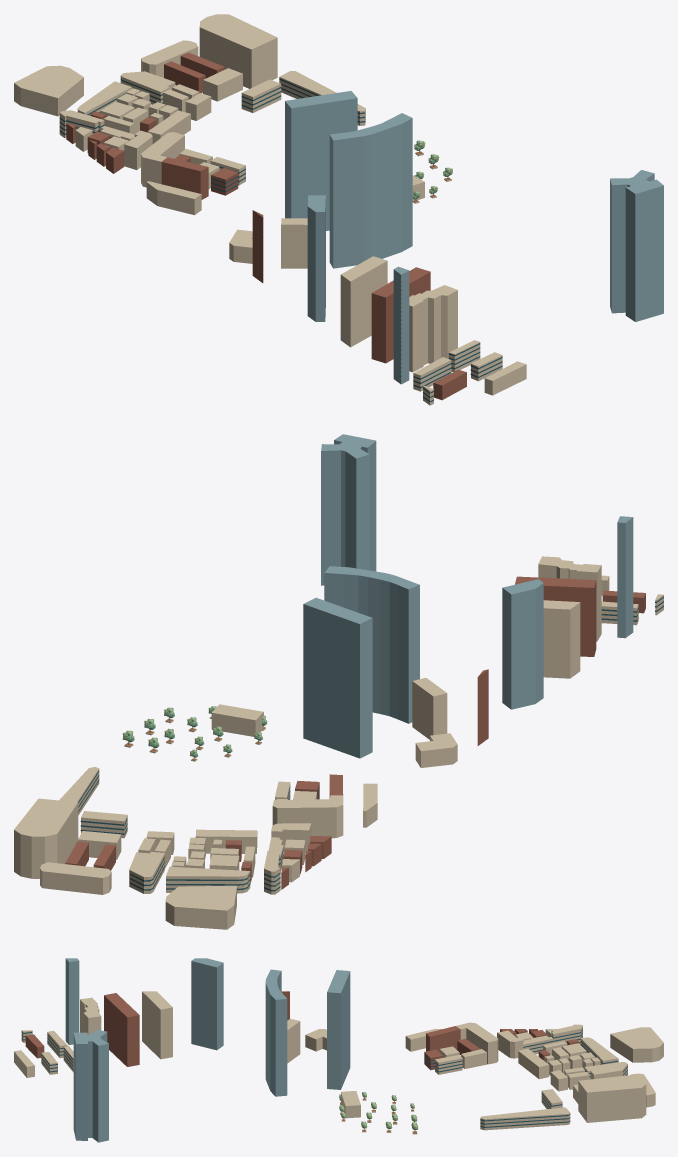
The picture shows the model from 3 angles, top to bottom: view 1: azimuth 30°, elevation 25°; view 2: azimuth 150°, elevation 25°; view 3: azimuth 270°, elevation 25°; orthographic projection. The views are drawn at different scales.
Visible parts, largest first — view 1: osm-way-369237836, osm-way-447124025, osm-way-369237871, osm-way-300481519, osm-way-447124043, osm-way-447124028, osm-way-369238006, osm-way-447124027, osm-way-447124032, osm-way-372180483, osm-way-389702037, osm-way-369237910 (+21 smaller); view 2: osm-way-369237871, osm-way-369237836, osm-way-447124025, osm-way-447124027, osm-way-300481519, osm-way-447124028, osm-way-369238006, osm-way-447124032, osm-way-369238010, osm-way-372180483, osm-way-378107249, osm-way-369237910 (+11 smaller); view 3: osm-way-447124025, osm-way-300481519, osm-way-447124027, osm-way-369237836, osm-way-369237871, osm-way-447124032, osm-way-447124028, osm-way-369238006, osm-way-378107242, osm-way-372180483, osm-way-369238010, osm-way-447124043 (+18 smaller).
Boxes of the visible parts, <box> form: osm-way-369237836: <box>329,113,412,268</box>; osm-way-447124025: <box>610,170,663,321</box>; osm-way-369237871: <box>285,91,357,230</box>; osm-way-300481519: <box>199,14,277,88</box>; osm-way-447124043: <box>409,285,457,372</box>; osm-way-447124028: <box>340,256,387,347</box>; osm-way-369238006: <box>14,65,83,116</box>; osm-way-447124027: <box>307,195,325,321</box>; osm-way-447124032: <box>371,267,430,363</box>; osm-way-372180483: <box>393,266,409,384</box>; osm-way-389702037: <box>161,157,208,199</box>; osm-way-369237910: <box>281,218,307,268</box>; osm-way-369237871: <box>303,597,372,758</box>; osm-way-369237836: <box>324,566,419,723</box>; osm-way-447124025: <box>321,434,376,585</box>; osm-way-447124027: <box>502,579,543,709</box>; osm-way-300481519: <box>14,798,78,878</box>; osm-way-447124028: <box>543,600,580,678</box>; osm-way-369238006: <box>165,885,236,929</box>; osm-way-447124032: <box>515,576,596,656</box>; osm-way-369238010: <box>272,795,343,838</box>; osm-way-372180483: <box>617,516,633,638</box>; osm-way-378107249: <box>40,862,111,894</box>; osm-way-369237910: <box>412,678,447,739</box>; osm-way-447124025: <box>73,1029,108,1142</box>; osm-way-300481519: <box>578,1075,646,1122</box>; osm-way-447124027: <box>191,958,223,1050</box>; osm-way-369237836: <box>265,969,287,1096</box>; osm-way-369237871: <box>327,970,350,1089</box>; osm-way-447124032: <box>104,993,139,1066</box>; osm-way-447124028: <box>142,991,172,1059</box>; osm-way-369238006: <box>610,1027,663,1062</box>; osm-way-378107242: <box>480,1107,570,1130</box>; osm-way-372180483: <box>65,958,79,1044</box>; osm-way-369238010: <box>456,1022,498,1064</box>; osm-way-447124043: <box>80,997,101,1034</box>.
Size of the model in its own units: 268 by 119 by 724.
